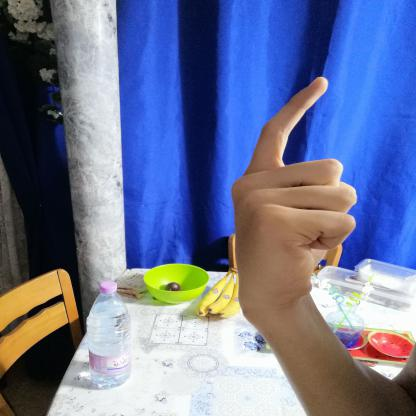RAA: (216, 65, 366, 320)
